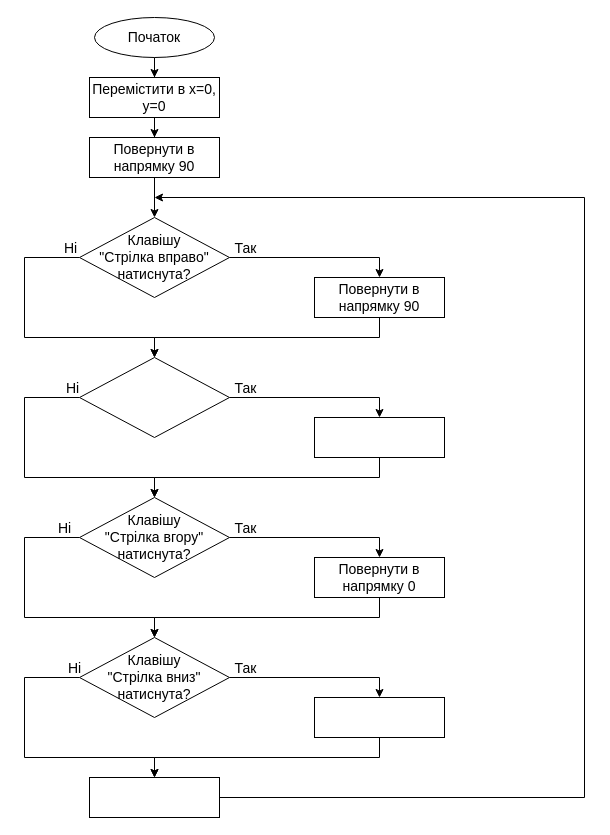
Image size: 610x835. Some labels were removed from this diagram. Each missing label, with the centre of its shape:
Клавішу "Стрілка вліво" натиснута?: (154,397)
Перемістити на 10 кроків: (154,797)
Повернути в напрямку -90: (379,437)
Повернути в напрямку 180: (379,717)
